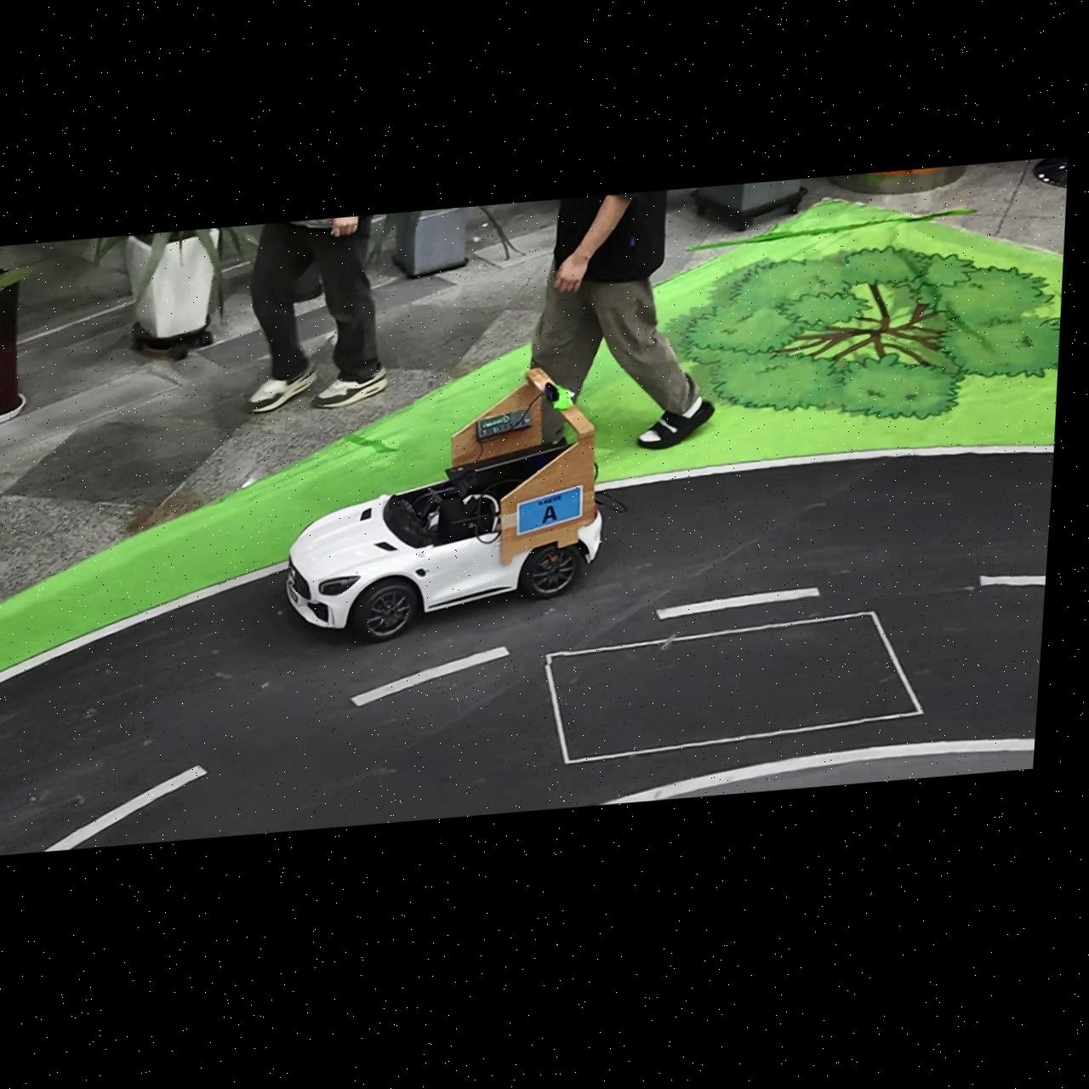broken_line: (44, 765, 208, 851), (350, 646, 510, 705), (656, 588, 820, 620), (980, 575, 1046, 586)
